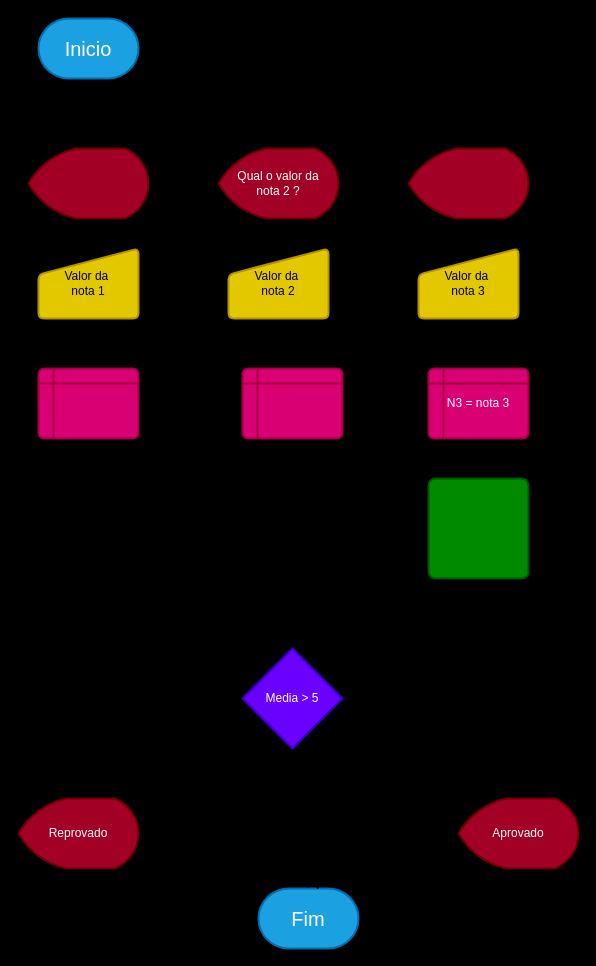
This 596x966 diagram has some shape labels left out. The box of each missing label's shape, as (x1, y1, x2, y2) in pixels:
media =(N1+N2+N3) / 3: (427, 477, 529, 579)
N1 = nota 1: (37, 367, 139, 439)
N2 = nota 2: (241, 367, 343, 439)
Qual o valor da nota 1 ?: (27, 147, 149, 219)
Qual o valor da nota 3 ?: (407, 147, 529, 219)
